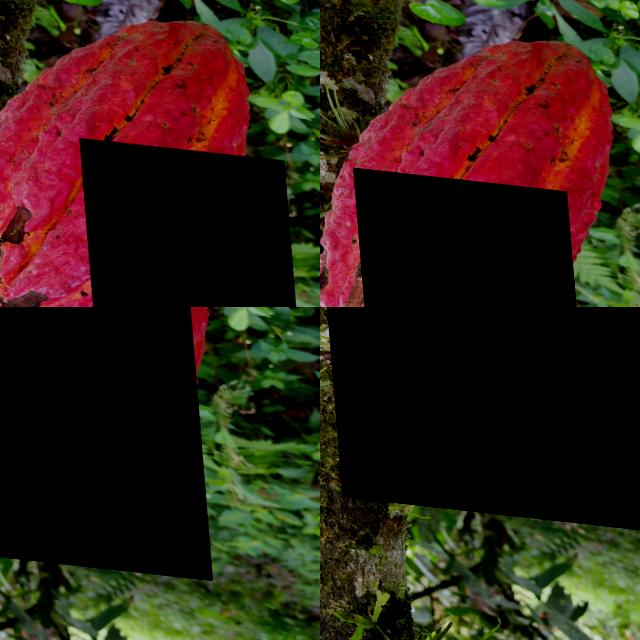Fitoftora: (75, 130, 302, 307)
Sana: (320, 307, 640, 522), (432, 0, 640, 307), (0, 307, 204, 569), (348, 162, 585, 307), (358, 33, 376, 58)
